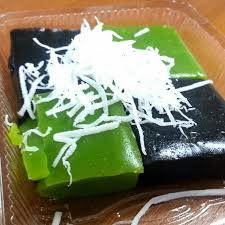kanompiakpoon: (7, 19, 225, 204), (28, 88, 150, 207)
